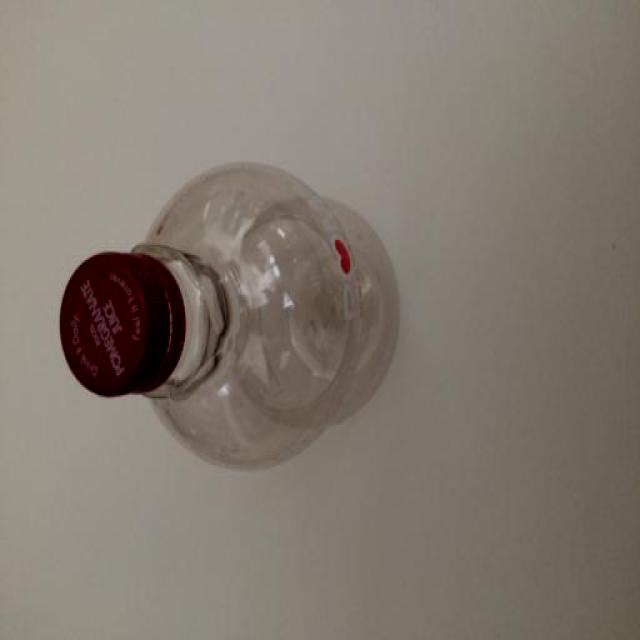Recycle: (56, 152, 402, 474)
